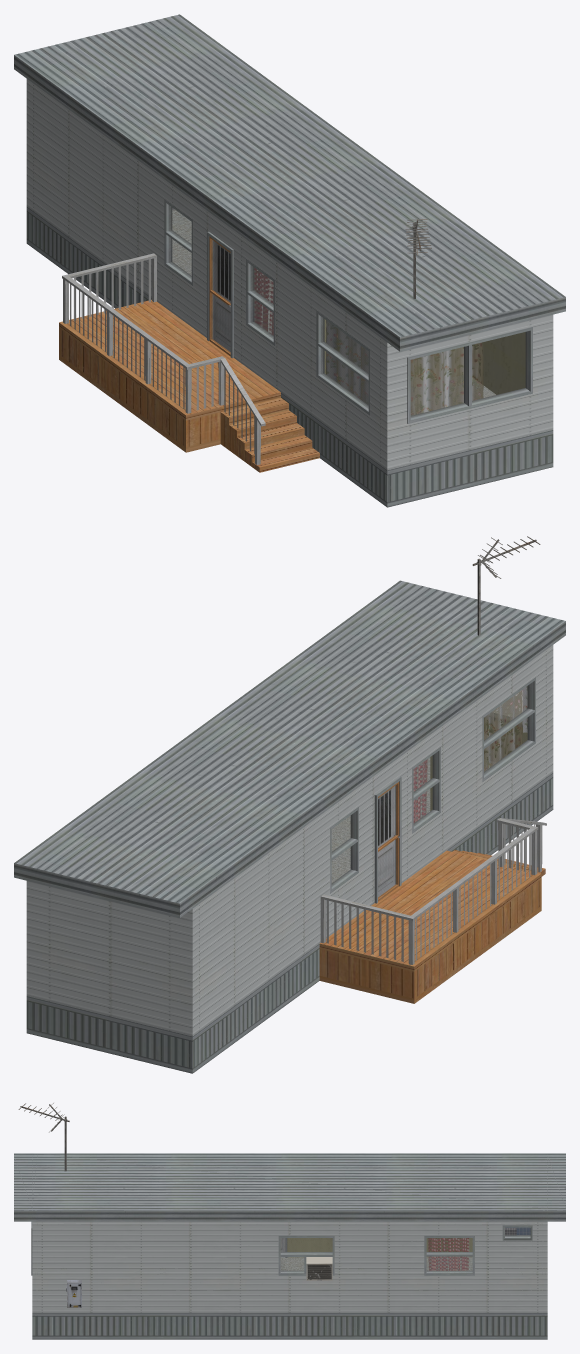
The model's file is trailer_02.glb.
The picture shows the model from 3 angles, top to bottom: view 1: azimuth 30°, elevation 25°; view 2: azimuth 150°, elevation 25°; view 3: azimuth 270°, elevation 25°; orthographic projection. The views are drawn at different scales.
Visible parts, largest first — view 1: Home_01, railing_01, Mesh_10, Curtain_01.004, Frame_Windows_10, Mesh_09, Door_Mesh.001, Curtain_01.003, Door.001, Frame_Windows_09, Mesh_08, Mesh_07 (+5 smaller); view 2: Home_01, railing_01, Mesh_09, Door_Mesh.001, Curtain_01.003, Door.001, Frame_Windows_09, Mesh_07, Mesh_08, Frame_Windows_08, Frame_Windows_07, Frame_Door_02 (+1 smaller); view 3: Home_01, Mesh_12, Mesh_11, Curtain.004, Frame_Windows_12, Frame_Windows_11, air-conditioning.001, Antenna_01.001, Fuse_box.003, Frame_Windows_13.
Part boxes in pixels (box(x1,y1,x2,y2)): Home_01: box(14, 14, 565, 507); railing_01: box(62, 253, 265, 464); Mesh_10: box(411, 331, 527, 417); Curtain_01.004: box(410, 342, 483, 415); Frame_Windows_10: box(407, 327, 532, 423); Mesh_09: box(321, 317, 368, 408); Door_Mesh.001: box(209, 236, 230, 356); Curtain_01.003: box(326, 320, 368, 404); Door.001: box(213, 240, 230, 351); Frame_Windows_09: box(316, 310, 369, 415); Mesh_08: box(250, 265, 273, 338); Mesh_07: box(168, 205, 191, 278); Home_01: box(14, 580, 565, 1073); railing_01: box(320, 818, 546, 964); Mesh_09: box(484, 683, 531, 774); Door_Mesh.001: box(378, 782, 400, 901); Curtain_01.003: box(484, 690, 522, 771); Door.001: box(378, 786, 395, 896); Frame_Windows_09: box(482, 677, 535, 782); Mesh_07: box(332, 813, 354, 886); Mesh_08: box(414, 753, 435, 825); Frame_Windows_08: box(412, 747, 440, 833); Frame_Windows_07: box(330, 807, 358, 893); Frame_Door_02: box(374, 777, 401, 903); Home_01: box(14, 1153, 565, 1339); Mesh_12: box(427, 1238, 472, 1271); Mesh_11: box(281, 1238, 332, 1271); Curtain.004: box(428, 1238, 469, 1270); Frame_Windows_12: box(424, 1235, 474, 1275); Frame_Windows_11: box(278, 1235, 334, 1275); air-conditioning.001: box(306, 1257, 332, 1280); Antenna_01.001: box(18, 1103, 69, 1171); Fuse_box.003: box(66, 1280, 81, 1307); Frame_Windows_13: box(502, 1225, 532, 1240).
Bounding box in the file's own units: 6.35 × 5.85 × 15.11.
17 materials, 17 textured.
